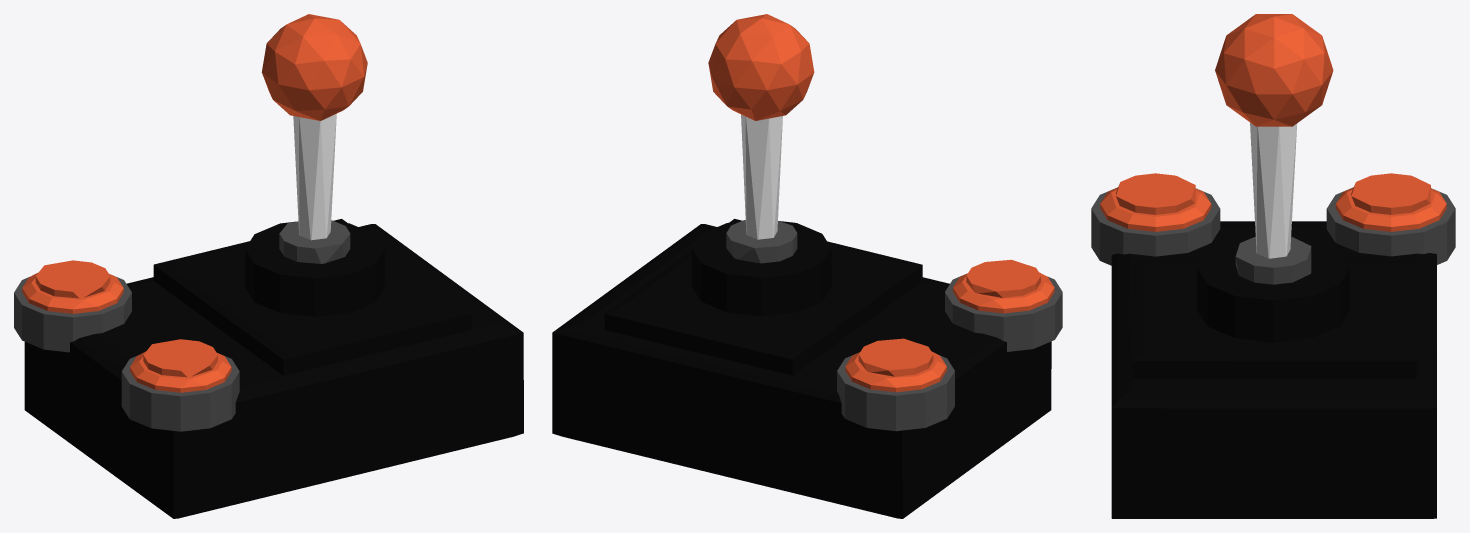
File: joystick.fbx
3 views of the same model, side by side, from view 1: azimuth 30°, elevation 25°; view 2: azimuth 150°, elevation 25°; view 3: azimuth 270°, elevation 25° (orthographic). The views are drawn at different scales.
Parts seen in each view (by area): view 1: joystick; view 2: joystick; view 3: joystick.
Part boxes in pixels (bbox=[...]): joystick: bbox=[14, 14, 523, 518]; joystick: bbox=[552, 14, 1062, 518]; joystick: bbox=[1091, 14, 1455, 518].
Size of the model in its own units: 251 by 257 by 194.
